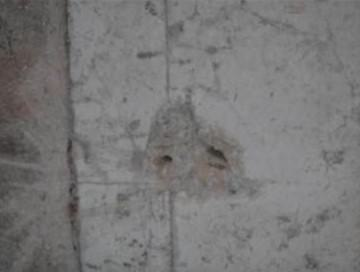Spalling: (143, 97, 262, 201)
